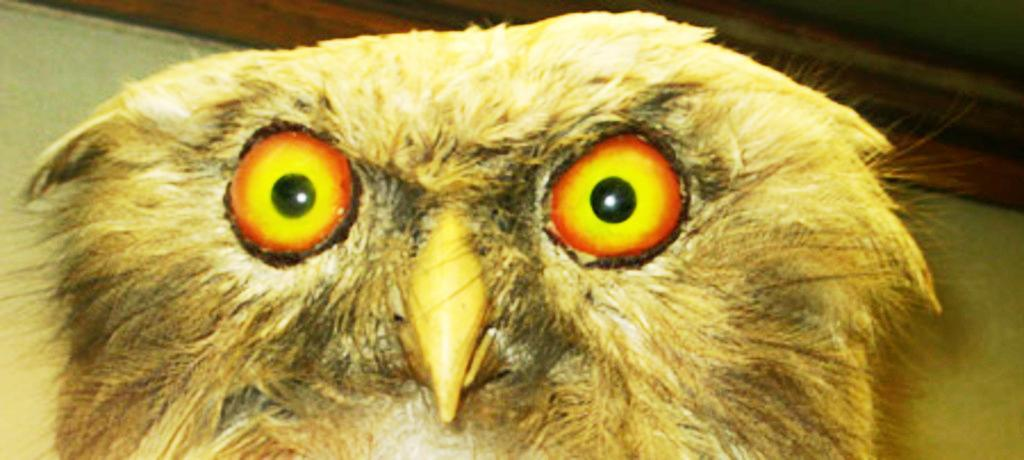Owl: (73, 3, 910, 458)
